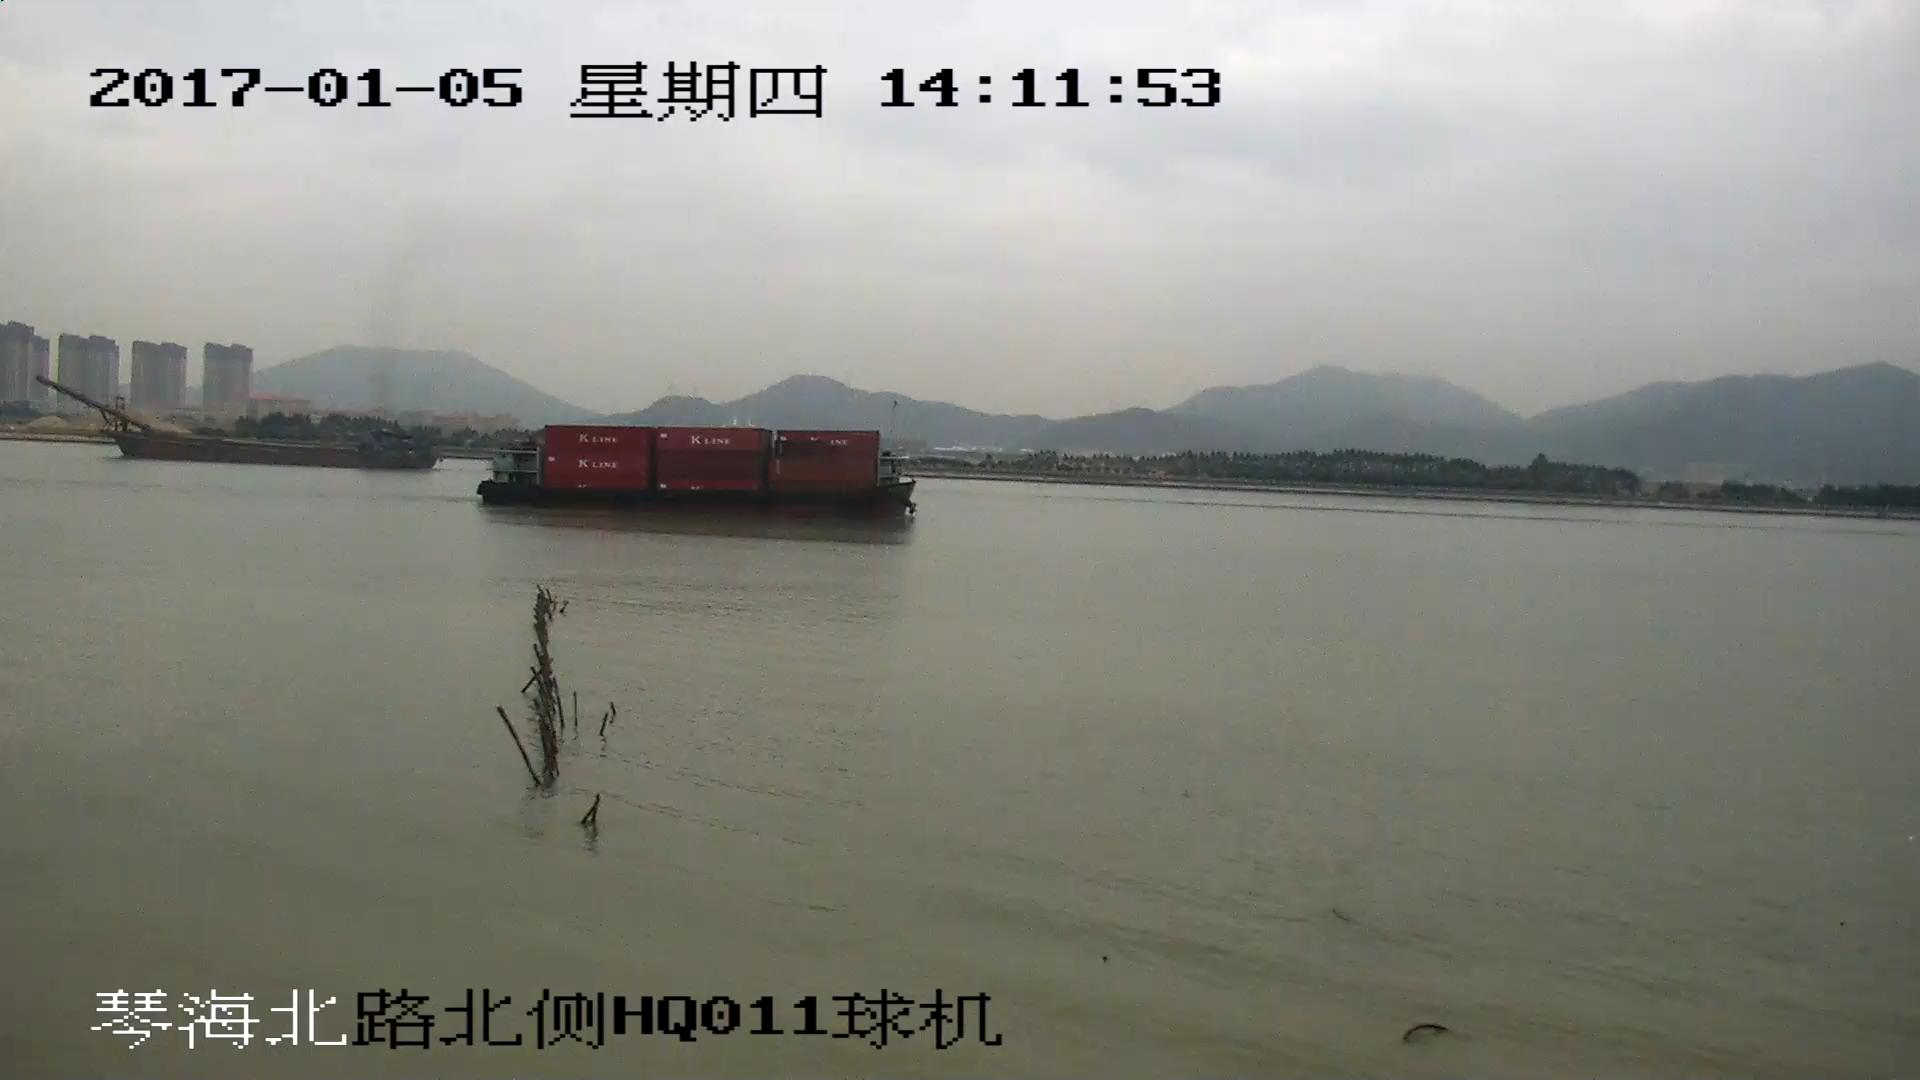bulk cargo carrier: (38, 376, 435, 465)
container ship: (478, 431, 914, 521)
